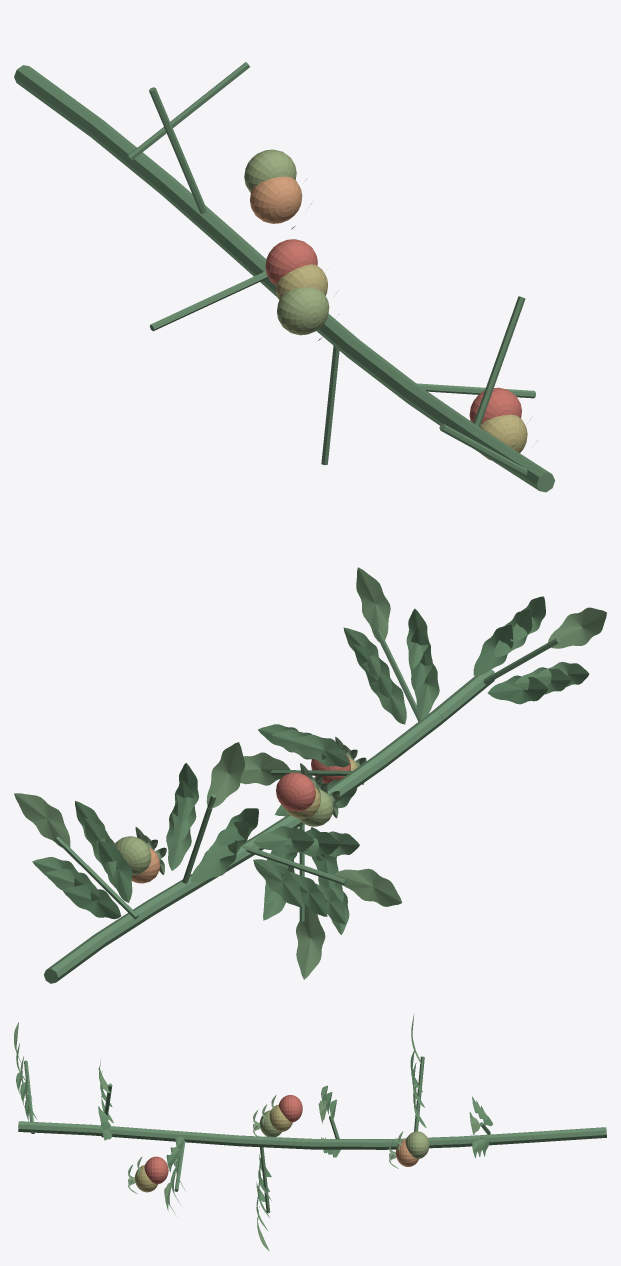
Rendered from tomato_b.glb.
The picture shows the model from 3 angles, top to bottom: view 1: azimuth 30°, elevation 25°; view 2: azimuth 150°, elevation 25°; view 3: azimuth 270°, elevation 25°; orthographic projection. The views are drawn at different scales.
Parts seen in each view (by area): view 1: Stem, FruitMid, FruitGreen, FruitRed; view 2: Leaves, Stem, FruitRed, FruitGreen, Calyx, FruitMid; view 3: Stem, Leaves, FruitMid, FruitRed, FruitGreen, Calyx.
Part boxes in pixels (x1,y1,x2,y2): Stem: [14, 62, 554, 492]; FruitMid: [250, 176, 527, 460]; FruitGreen: [244, 149, 329, 335]; FruitRed: [265, 239, 521, 423]; Leaves: [14, 567, 606, 979]; Stem: [44, 628, 559, 983]; FruitRed: [276, 753, 350, 811]; FruitGreen: [115, 789, 333, 875]; Calyx: [135, 736, 366, 874]; FruitMid: [131, 757, 357, 883]; Stem: [18, 1056, 606, 1213]; Leaves: [14, 1013, 492, 1250]; FruitMid: [135, 1104, 418, 1192]; FruitRed: [144, 1095, 302, 1184]; FruitGreen: [260, 1110, 429, 1158]; Calyx: [128, 1095, 403, 1193].
Bounding box in the file's own units: 0.6421 × 0.6794 × 1.61.
